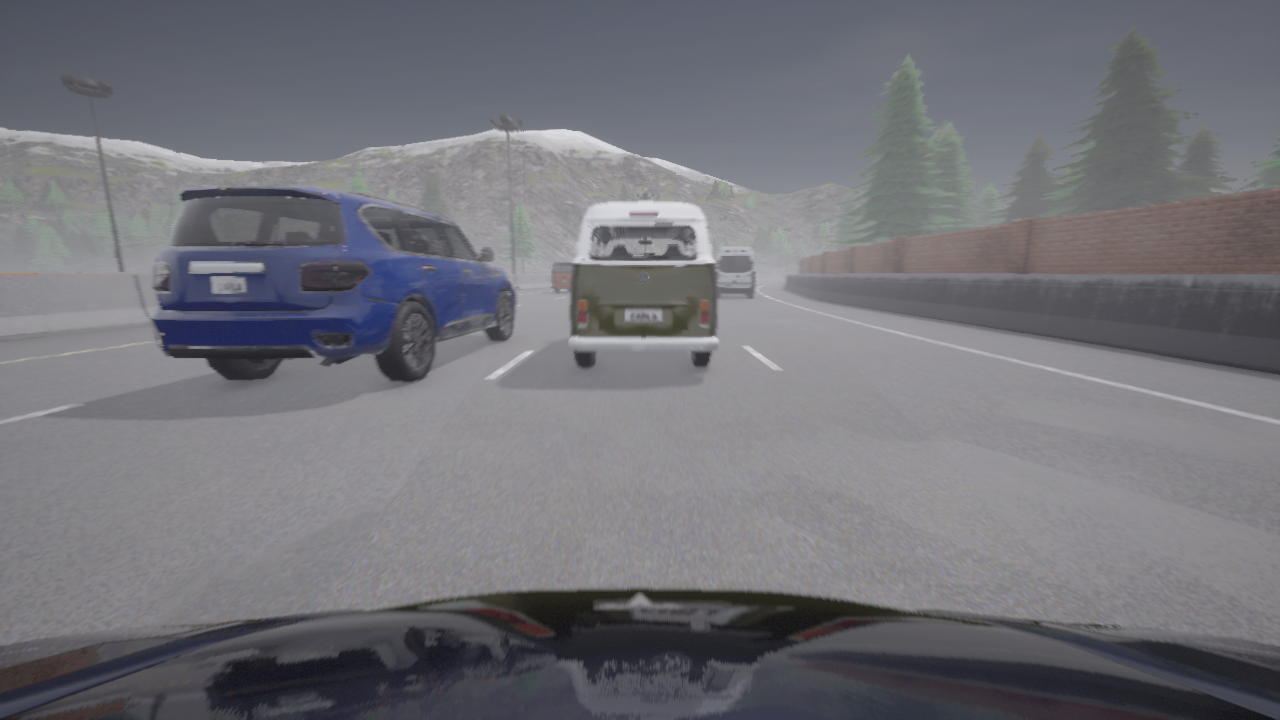cyclist: (0, 588, 1279, 719), (151, 186, 515, 382), (569, 201, 719, 367), (715, 246, 754, 297), (552, 261, 572, 292)
